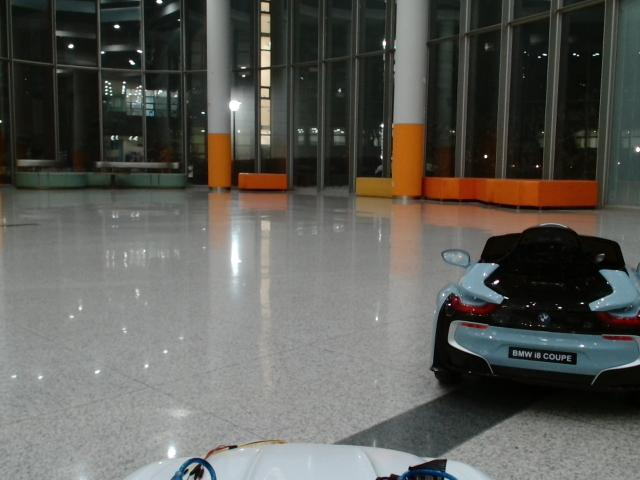car: (431, 223, 640, 398)
